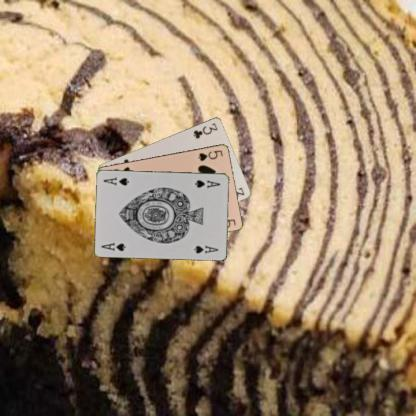3c: (191, 120, 220, 140)
5s: (196, 148, 224, 162)
As: (192, 177, 222, 189), (98, 240, 127, 252)
